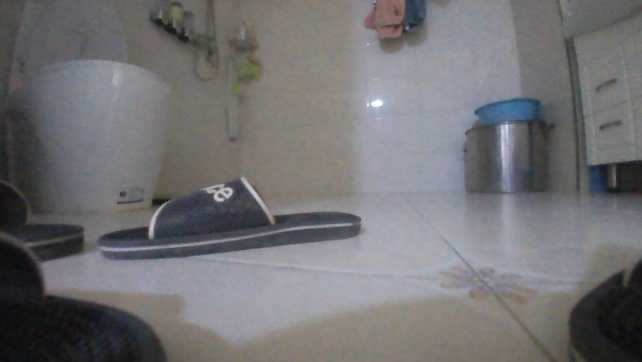slipper: (95, 175, 363, 260)
toilet: (7, 1, 172, 209)
